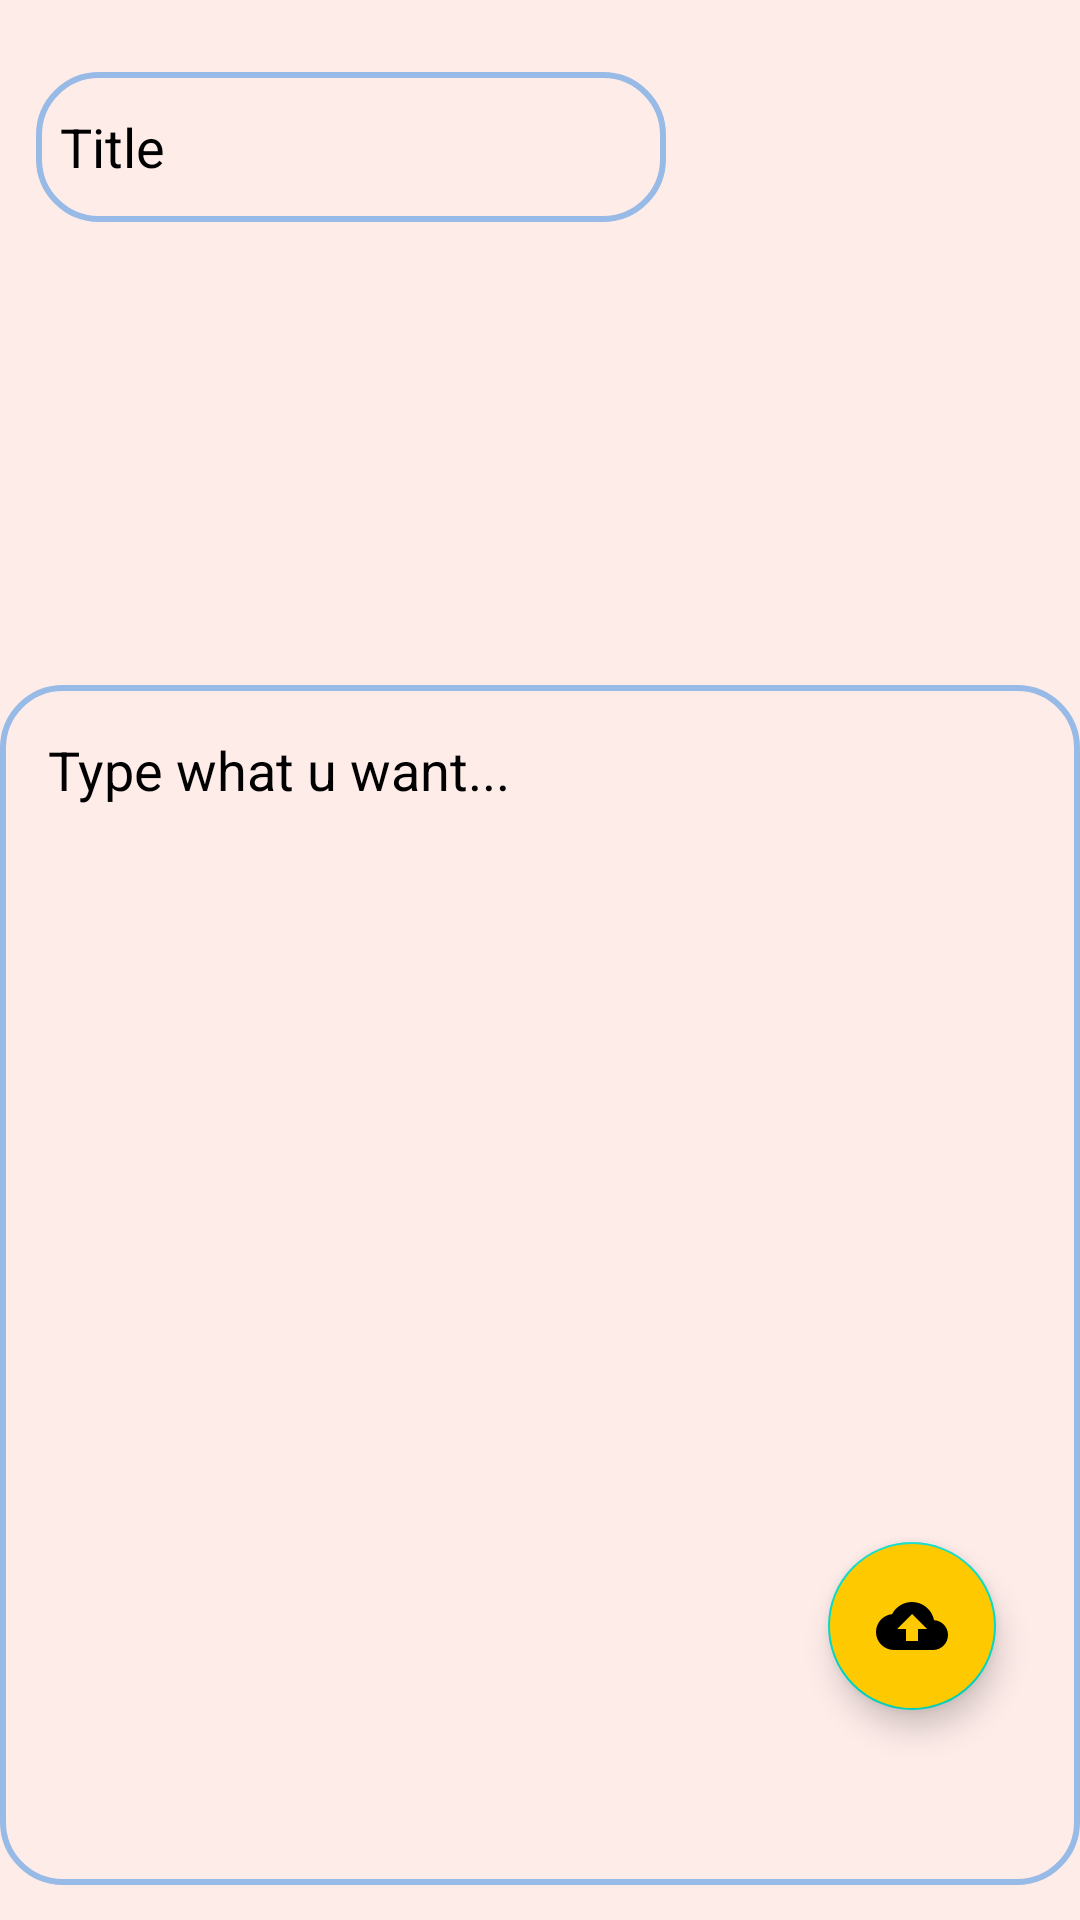

Point at icon controls on the screen. Image size 1080 × 1920, points as [x,y].
Upload: [912,1626]
